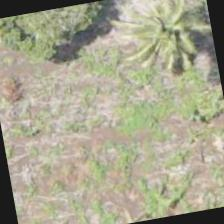Kelapa_Sawit: (124, 0, 219, 85)
